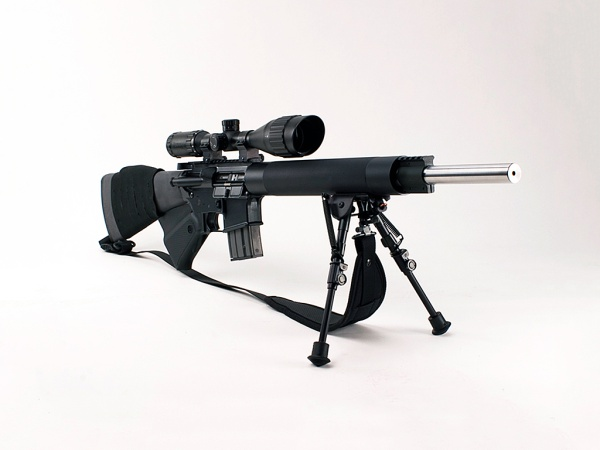ak47: (100, 114, 521, 268)
